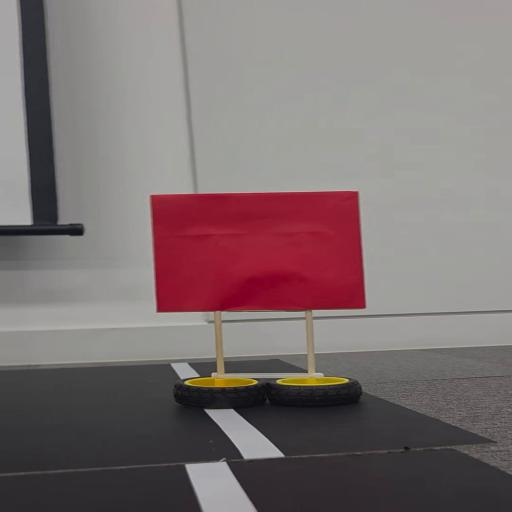Sign_A: (142, 190, 376, 408)
